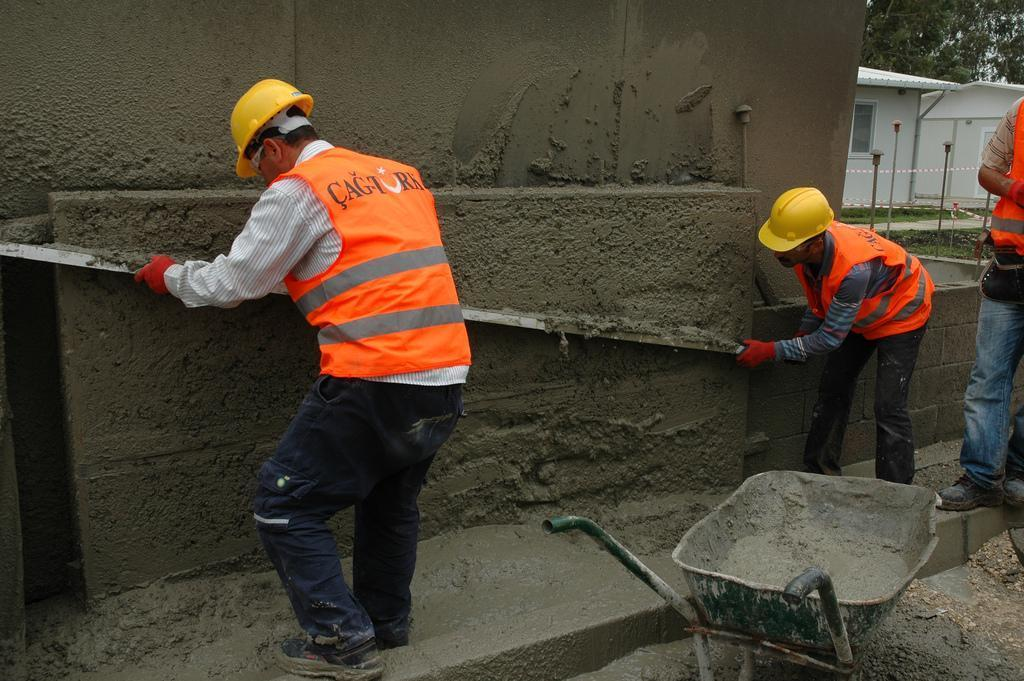vest: (258, 143, 474, 401), (791, 216, 937, 344)
